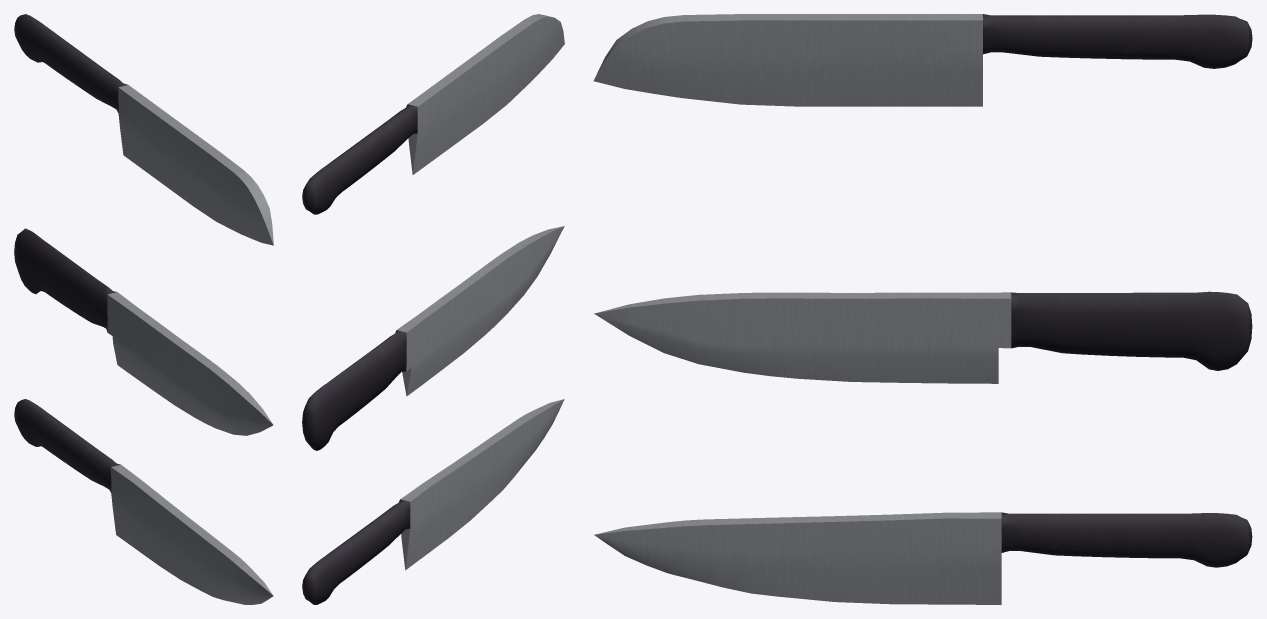
File: KitchenKnife.fbx
3 views of the same model, side by side, from view 1: azimuth 30°, elevation 25°; view 2: azimuth 150°, elevation 25°; view 3: azimuth 270°, elevation 25° (orthographic). The views are drawn at different scales.
Visible parts, largest first — view 1: Knife3, Knife1, Knife2; view 2: Knife3, Knife1, Knife2; view 3: Knife3, Knife1, Knife2.
Part boxes in pixels (x1,y1,x2,y2): Knife3: (14, 228, 273, 435); Knife1: (14, 14, 273, 245); Knife2: (14, 399, 273, 604); Knife3: (302, 226, 564, 450); Knife1: (302, 14, 564, 214); Knife2: (302, 399, 564, 604); Knife3: (594, 291, 1252, 383); Knife1: (593, 14, 1252, 106); Knife2: (594, 512, 1252, 604).
Bounding box in the file's own units: 1.28 × 34.63 × 35.04.
